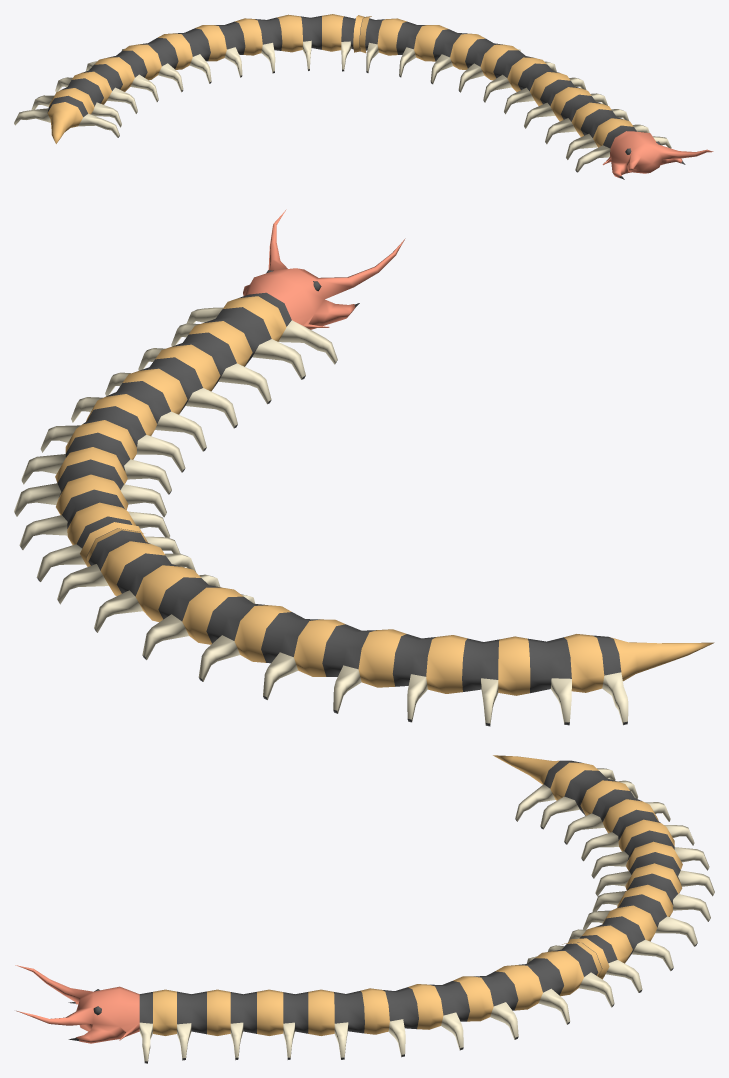
The model's file is 2d6878f2-3e5f-435e-bc77-627cf4cffa25.glb.
3 renders of one model, top to bottom at view 1: azimuth 30°, elevation 25°; view 2: azimuth 150°, elevation 25°; view 3: azimuth 270°, elevation 25°, orthographic. The views are drawn at different scales.
Visible parts, largest first — view 1: Symmetry; view 2: Symmetry; view 3: Symmetry.
Part boxes in pixels (<box>): Symmetry: <box>14,14,713,179</box>; Symmetry: <box>14,209,714,726</box>; Symmetry: <box>15,755,714,1063</box>.
Size of the model in its own units: 331 by 26.37 by 343.
